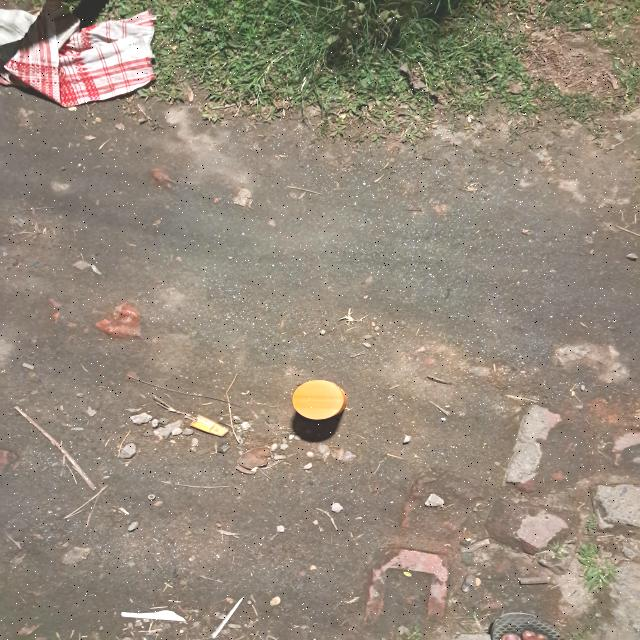Cylinder: (290, 379, 346, 442)
